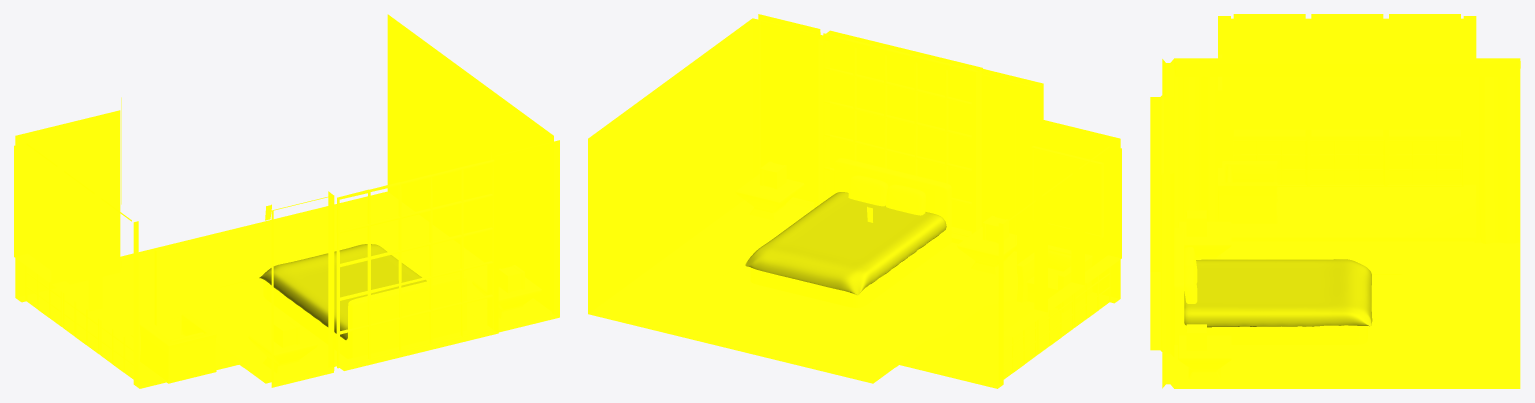
The model's file is bedroom.gltf.
3 views of the same model, side by side, from view 1: azimuth 30°, elevation 25°; view 2: azimuth 150°, elevation 25°; view 3: azimuth 270°, elevation 25° (orthographic). The views are drawn at different scales.
Visible parts, largest first — view 1: ModernBedroom; view 2: ModernBedroom; view 3: ModernBedroom.
Boxes of the visible parts, x1,y1,x2,y2 form: ModernBedroom: (14,14,559,388); ModernBedroom: (588,14,1121,388); ModernBedroom: (1150,14,1520,388).
Bounding box in the file's own units: 23.7 × 10.06 × 18.19.
Materials: 10 (10 with a texture image).
